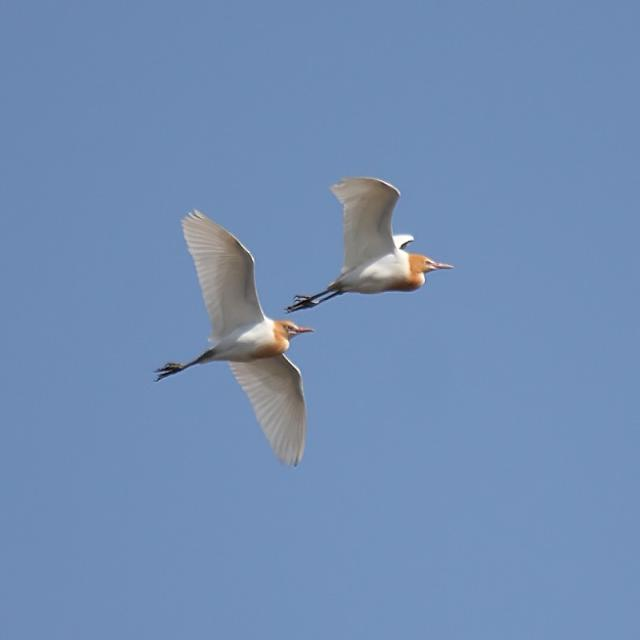bird: (152, 197, 322, 464), (294, 178, 458, 318)
